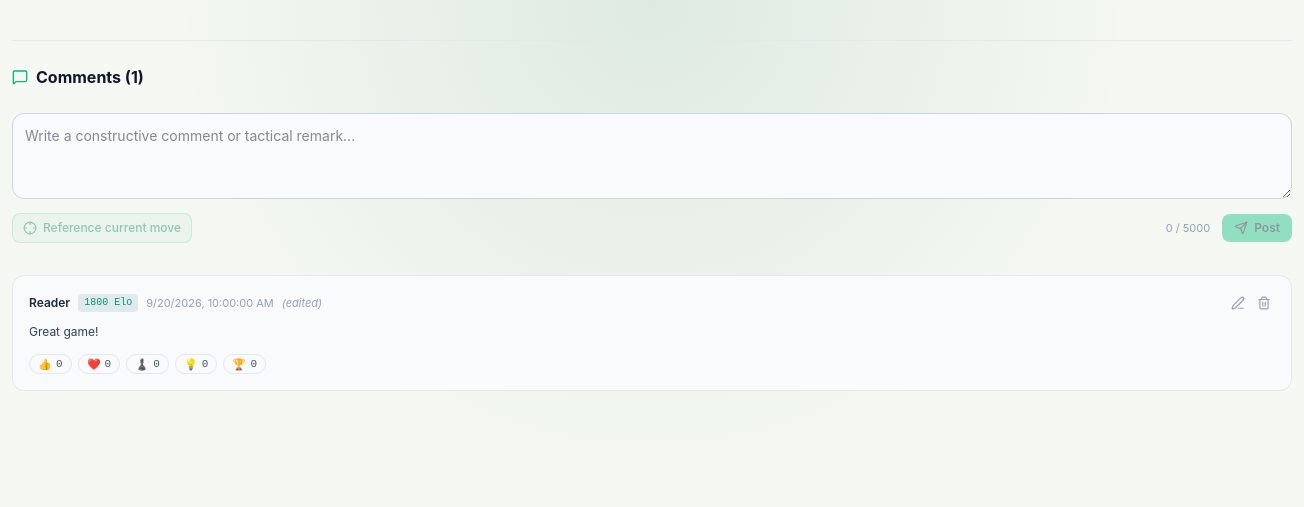
Test: CommentsSection › edits a comment through PUT and shows the updated text
Step 1. Click the button named "Edit comment" → [1238, 303], box left=1227, top=292, right=1249, bottom=314
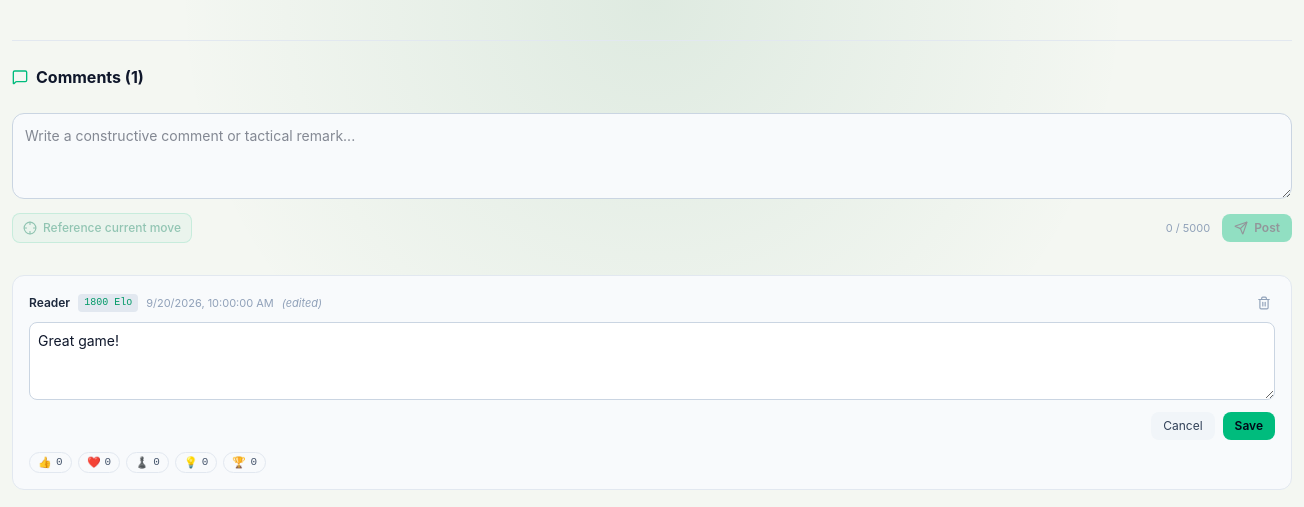
Step 2. Replace the text in the text box named "Edit comment" with "Even better game!" → [652, 361], box left=29, top=322, right=1275, bottom=400
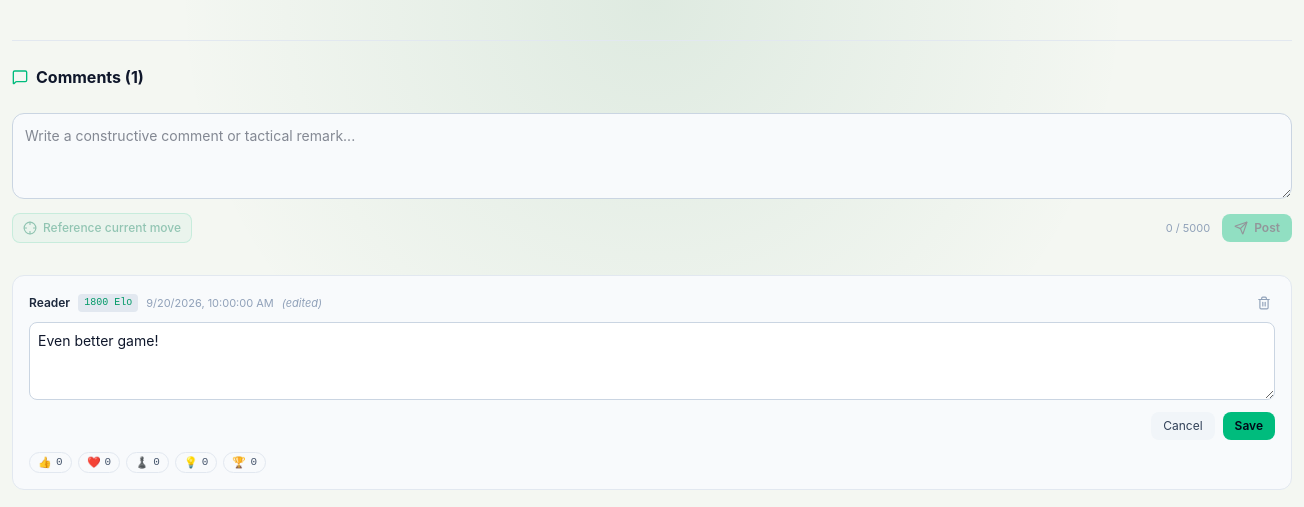
Step 3. Click the button "Save" → [1249, 426], box left=1223, top=412, right=1275, bottom=440
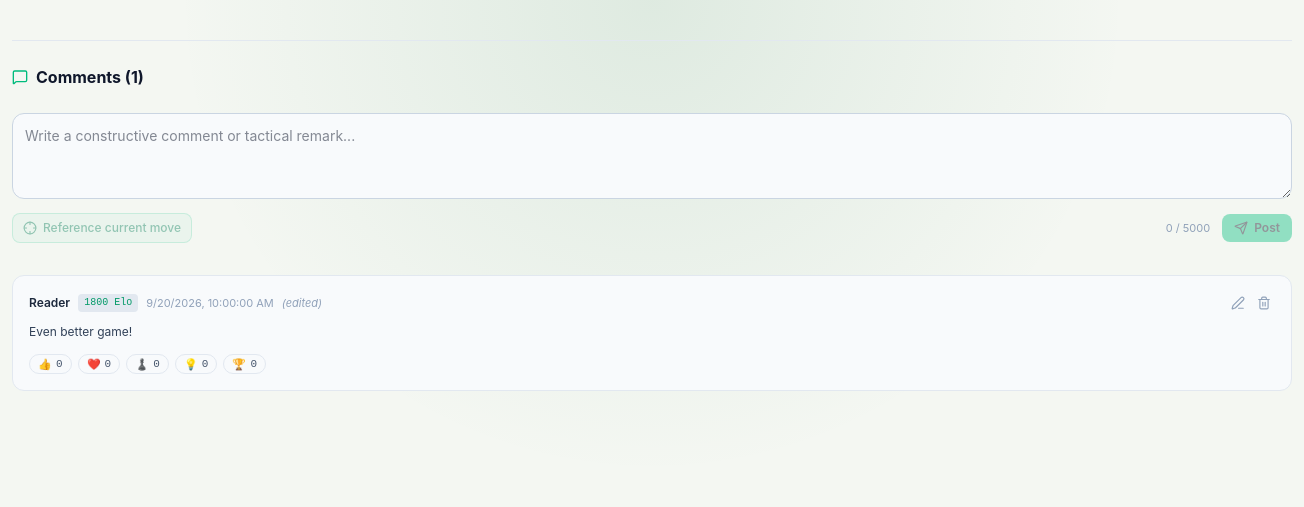
Expected: the text "Even better game!" is shown, left=29, top=324, right=132, bottom=339
